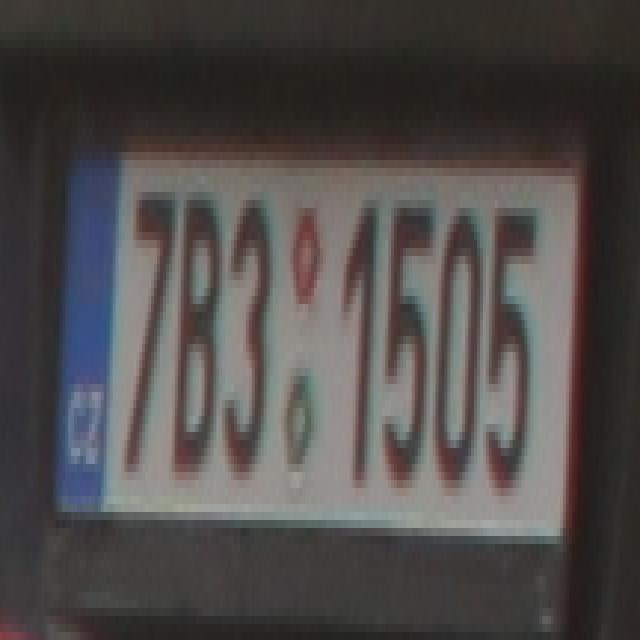0: (433, 200, 480, 480)
1: (341, 200, 376, 472)
3: (219, 200, 273, 488)
5: (376, 184, 427, 496), (483, 192, 527, 480)
7: (118, 192, 175, 472)
B: (172, 184, 219, 464)
